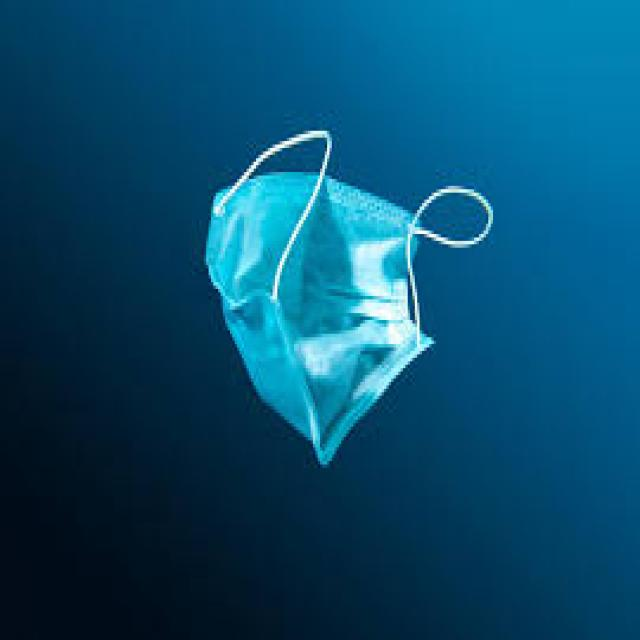mask: (203, 127, 486, 464)
